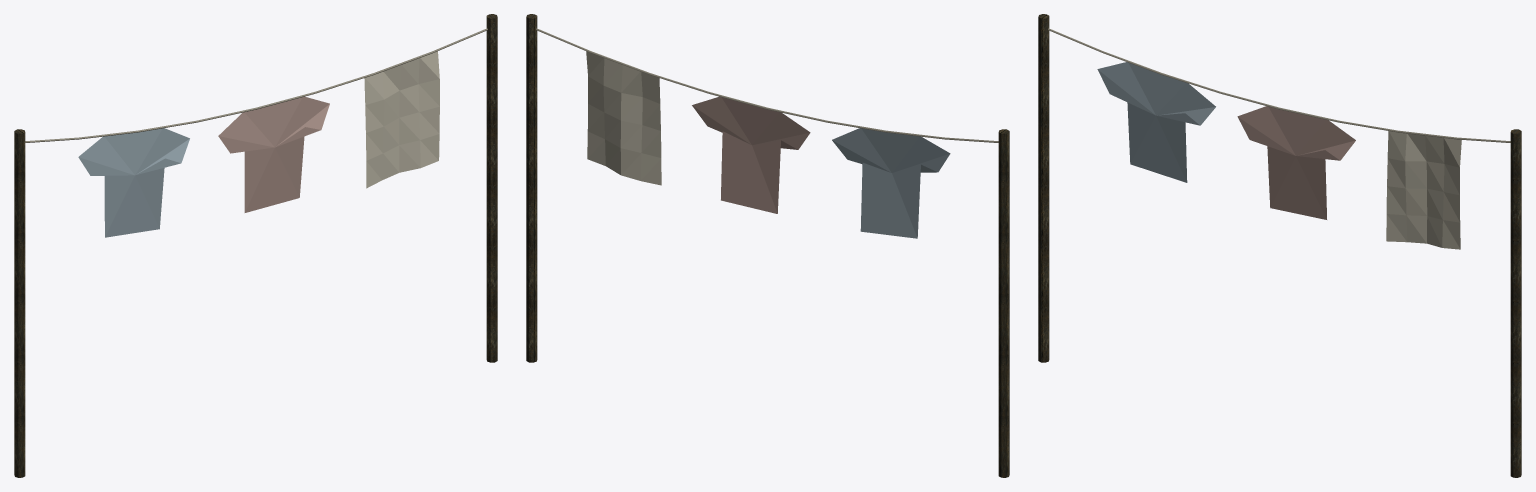
File: clothesline_reduced.glb
3 renders of one model, left to right at view 1: azimuth 30°, elevation 25°; view 2: azimuth 150°, elevation 25°; view 3: azimuth 330°, elevation 25°, orthographic.
Visible parts, largest first — view 1: BambooPoles, FoldedTowel, Shirt_1, Shirt_0, ContinuousRope; view 2: BambooPoles, FoldedTowel, Shirt_0, Shirt_1, ContinuousRope; view 3: BambooPoles, FoldedTowel, Shirt_1, Shirt_0, ContinuousRope.
Boxes of the visible parts, x1,y1,x2,y2 form: BambooPoles: (14, 14, 497, 477); FoldedTowel: (364, 51, 439, 188); Shirt_1: (218, 96, 329, 212); Shirt_0: (78, 128, 189, 237); ContinuousRope: (25, 28, 487, 142); BambooPoles: (526, 14, 1009, 477); FoldedTowel: (586, 51, 661, 185); Shirt_0: (832, 128, 950, 238); Shirt_1: (692, 96, 810, 213); ContinuousRope: (536, 28, 998, 142); BambooPoles: (1038, 14, 1521, 477); FoldedTowel: (1386, 131, 1461, 249); Shirt_1: (1237, 106, 1355, 219); Shirt_0: (1097, 62, 1215, 182); ContinuousRope: (1048, 28, 1510, 142).
Size of the model in its own units: 2.76 by 1.88 by 0.056.
5 materials, 1 textured.
